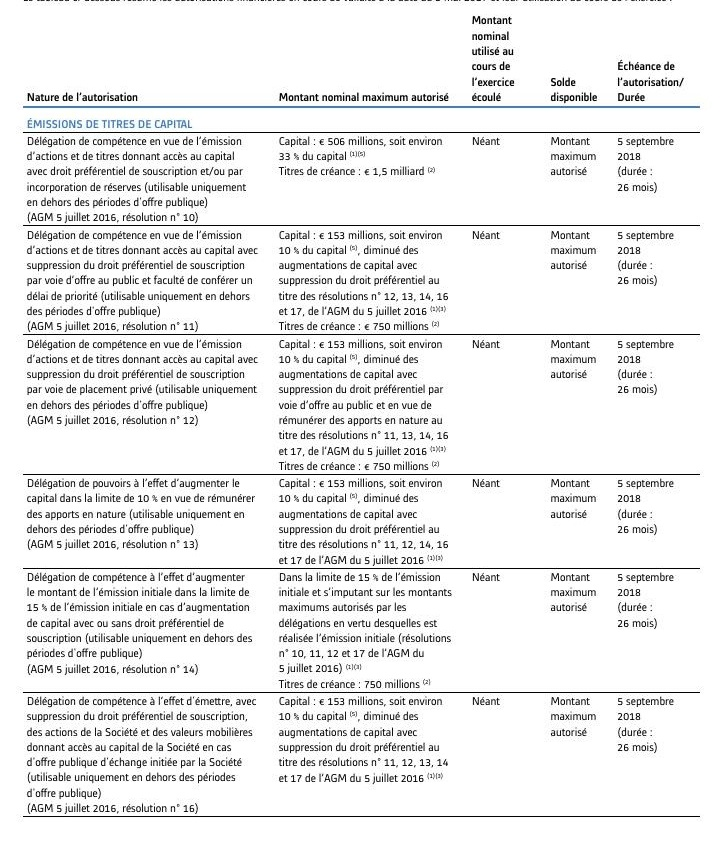table: (0, 0, 727, 844)
